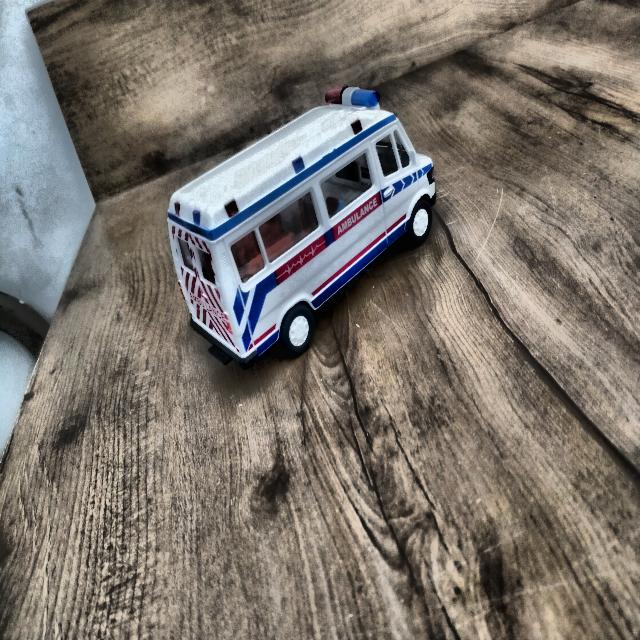Ambulance: (135, 73, 478, 374)
